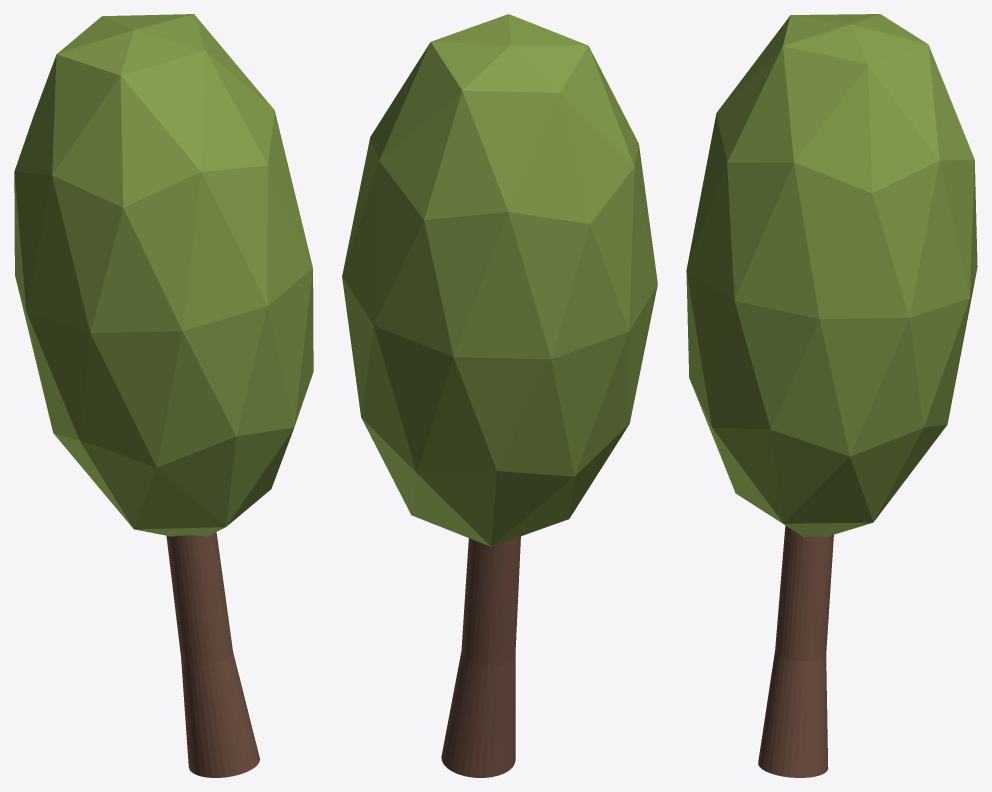
Rendered from Tree 1.fbx.
3 views of the same model, side by side, from view 1: azimuth 30°, elevation 25°; view 2: azimuth 150°, elevation 25°; view 3: azimuth 270°, elevation 25° (orthographic). The views are drawn at different scales.
Parts seen in each view (by area): view 1: Cylinder.011; view 2: Cylinder.011; view 3: Cylinder.011.
Boxes of the visible parts, bbox=[...] form: Cylinder.011: bbox=[14, 14, 313, 777]; Cylinder.011: bbox=[342, 14, 657, 777]; Cylinder.011: bbox=[686, 14, 977, 777].
Bounding box in the file's own units: 69.02 × 183 × 67.56.
